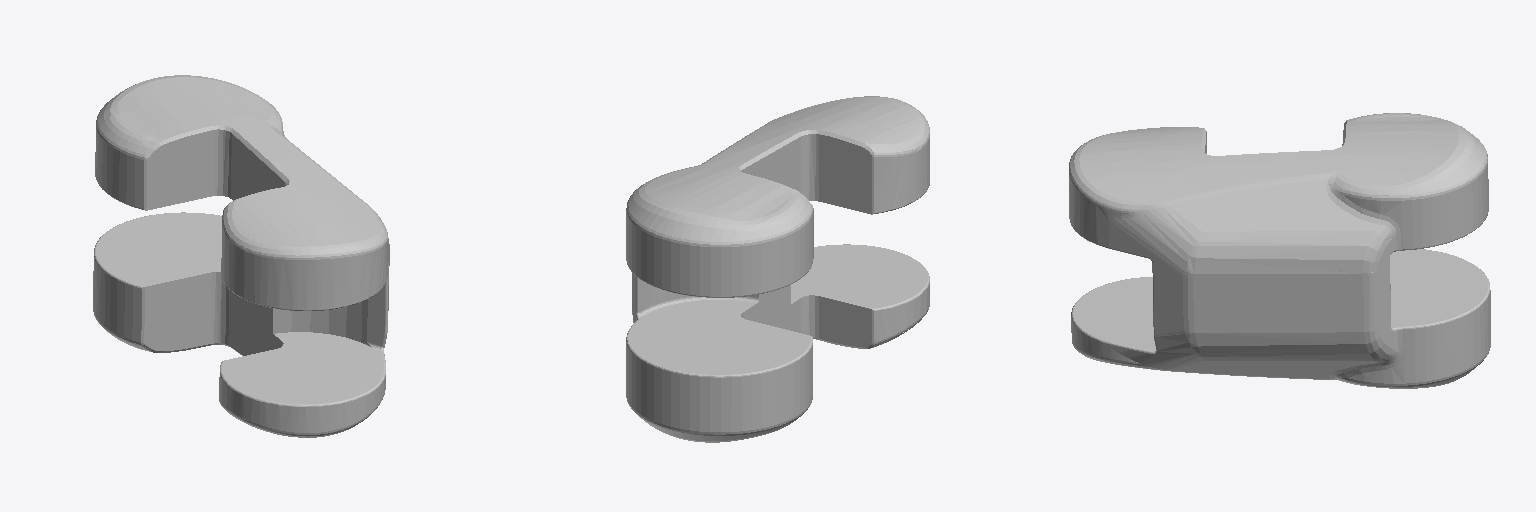
The model's file is converted_r3_finger_middle_808080ff.obj.
3 renders of one model, left to right at view 1: azimuth 30°, elevation 25°; view 2: azimuth 150°, elevation 25°; view 3: azimuth 270°, elevation 25°, orthographic.
Bounding box in the file's own units: 0.0305 × 0.0358 × 0.0609.